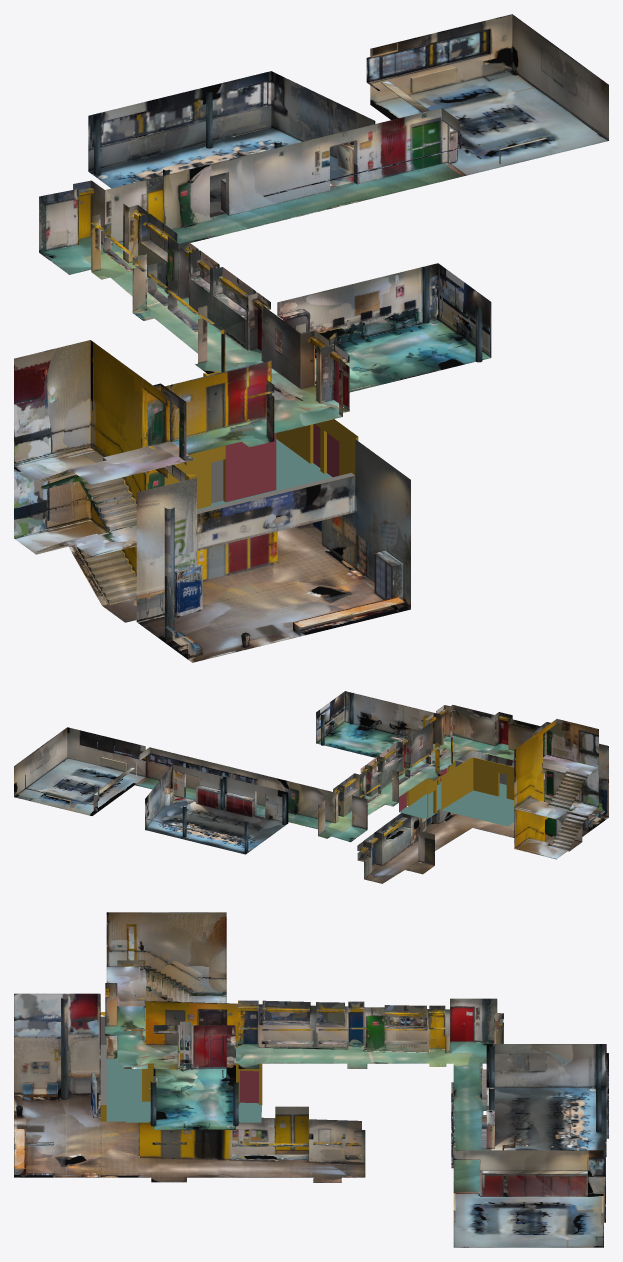
File: stgi_c__mixed_v3.glb
3 renders of one model, top to bottom at view 1: azimuth 30°, elevation 25°; view 2: azimuth 150°, elevation 25°; view 3: azimuth 270°, elevation 25°, orthographic. The views are drawn at different scales.
Parts seen in each view (by area): view 1: 2e_coul_murs, esc_murs, hall_int, 2e_coul_sol, 2e_linux_murs, 2e_mm3d_murs, esc_sol, 2e_linux_sol, 2e_maker_murs, hall_int_sol, E1, 2e_maker_sol (+6 smaller); view 2: 2e_coul_murs, esc_murs, E1, 2e_linux_murs, esc_sol, 2e_mm3d_sol, 2e_mm3d_murs, 2e_linux_sol, 2e_coul_sol, 2e_maker_murs, hall_coul_murs, hall_coul_sol (+3 smaller); view 3: 2e_coul_murs, 2e_coul_sol, hall_coul_murs, esc_murs, hall_int, 2e_linux_sol, 2e_mm3d_sol, hall_coul_sol, hall_int_sol, 2e_linux_murs, 2e_mm3d_murs, 2e_maker_sol (+6 smaller).
Part boxes in pixels (left/top/right/bottom): 2e_coul_murs: left=39, top=108, right=461, bottom=440; esc_murs: left=14, top=340, right=186, bottom=576; hall_int: left=136, top=439, right=410, bottom=621; 2e_coul_sol: left=39, top=162, right=466, bottom=454; 2e_linux_murs: left=366, top=14, right=608, bottom=164; 2e_mm3d_murs: left=88, top=71, right=375, bottom=212; esc_sol: left=14, top=441, right=194, bottom=622; 2e_linux_sol: left=370, top=70, right=608, bottom=175; 2e_maker_murs: left=277, top=263, right=491, bottom=357; hall_int_sol: left=137, top=569, right=410, bottom=662; E1: left=164, top=371, right=358, bottom=514; 2e_maker_sol: left=315, top=319, right=490, bottom=392; 2e_coul_murs: left=136, top=705, right=537, bottom=835; esc_murs: left=514, top=719, right=598, bottom=848; E1: left=399, top=757, right=546, bottom=826; 2e_linux_murs: left=14, top=727, right=145, bottom=811; esc_sol: left=514, top=755, right=598, bottom=859; 2e_mm3d_sol: left=145, top=795, right=287, bottom=854; 2e_mm3d_murs: left=145, top=764, right=288, bottom=842; 2e_linux_sol: left=14, top=758, right=145, bottom=815; 2e_coul_sol: left=135, top=735, right=514, bottom=842; 2e_maker_murs: left=316, top=691, right=434, bottom=743; hall_coul_murs: left=357, top=808, right=453, bottom=878; hall_coul_sol: left=364, top=813, right=553, bottom=883; 2e_coul_murs: left=105, top=983, right=503, bottom=1168; 2e_coul_sol: left=105, top=1006, right=493, bottom=1193; hall_coul_murs: left=140, top=1106, right=365, bottom=1164; esc_murs: left=106, top=912, right=226, bottom=1001; hall_int: left=14, top=993, right=100, bottom=1094; 2e_linux_sol: left=453, top=1194, right=603, bottom=1247; 2e_mm3d_sol: left=486, top=1087, right=606, bottom=1156; hall_coul_sol: left=100, top=1121, right=365, bottom=1182; hall_int_sol: left=14, top=1094, right=100, bottom=1177; 2e_linux_murs: left=453, top=1150, right=605, bottom=1224; 2e_mm3d_murs: left=486, top=1044, right=608, bottom=1148; 2e_maker_sol: left=153, top=1065, right=235, bottom=1129.
Bounding box in the file's own units: 35.77 × 9.89 × 32.01.
Materials: 27 (23 with a texture image).
